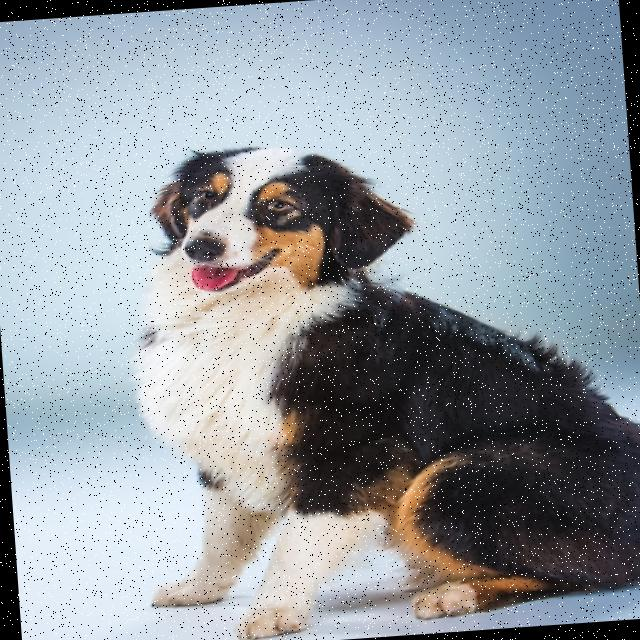Dog: (120, 119, 640, 640)
